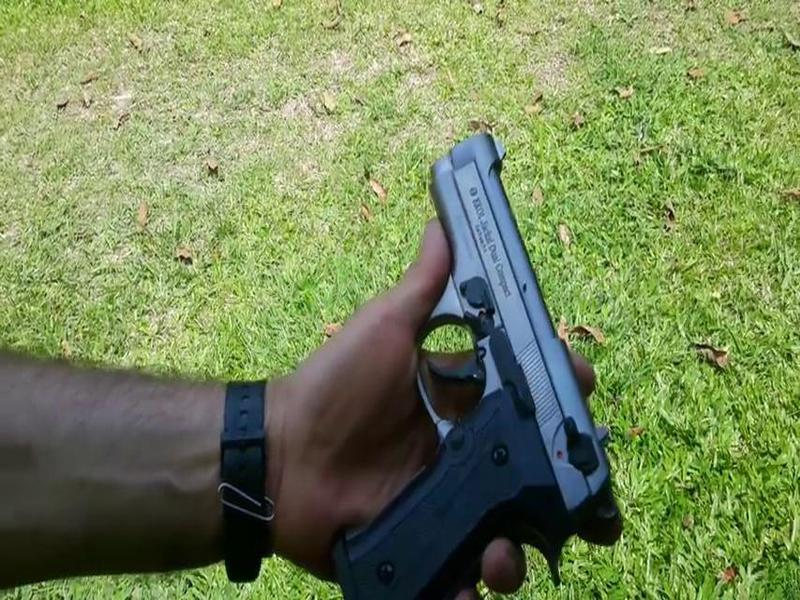Pistola: (272, 106, 647, 579)
